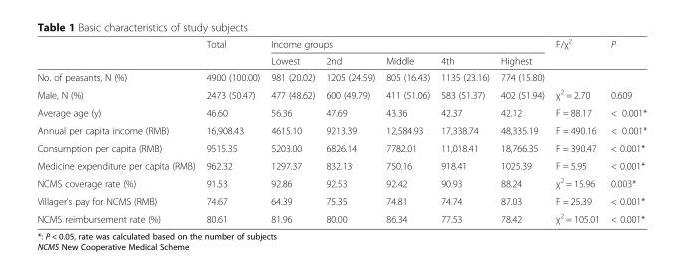table: (36, 36, 646, 224)
table column: (36, 36, 200, 224), (200, 36, 264, 224), (319, 36, 379, 224), (434, 36, 494, 224), (264, 36, 319, 224), (379, 36, 434, 224), (494, 36, 549, 224), (549, 36, 604, 224), (604, 36, 646, 224)
table column header: (36, 36, 646, 68)
table row: (36, 173, 646, 192), (36, 85, 646, 103), (36, 103, 646, 121), (36, 138, 646, 156), (36, 68, 646, 85), (36, 121, 646, 138), (36, 156, 646, 173), (36, 36, 646, 52), (36, 52, 646, 68), (36, 192, 646, 208), (36, 208, 646, 224)
table spanning cell: (264, 36, 549, 52), (200, 36, 264, 68), (549, 36, 604, 68), (604, 36, 646, 68)
